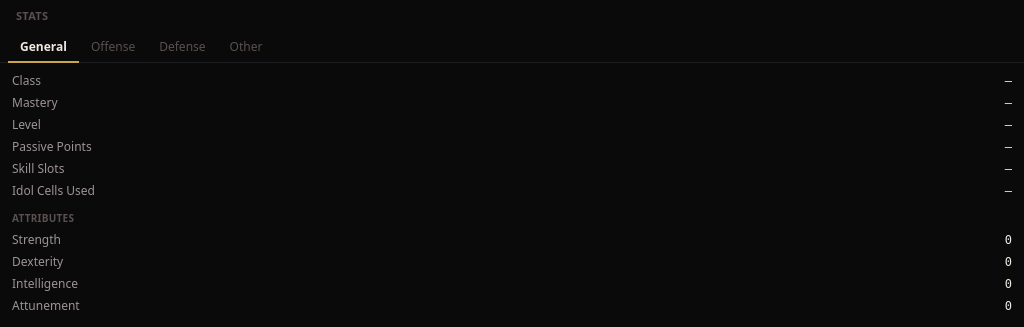
StatSheetPanel › renders Healing Effectiveness and honest dashes on the Other tab (1.6 AC1)
What coordinates should you click on to do the following:
click the tab "Other"
I would click on:
 (246, 48)
Its box is [218,32,274,62].
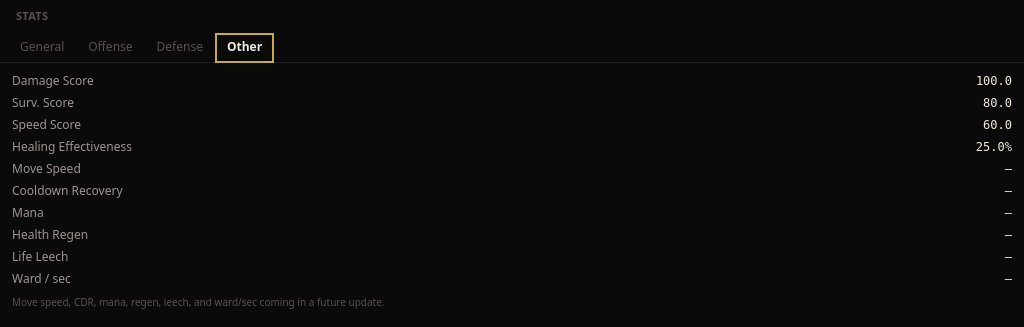
expect the text "Healing Effectiveness" is shown: met, box [12,138,132,154]
expect the text "Move Speed" is shown: met, box [12,160,81,176]
expect the text "Health Regen" is shown: met, box [12,226,88,242]
